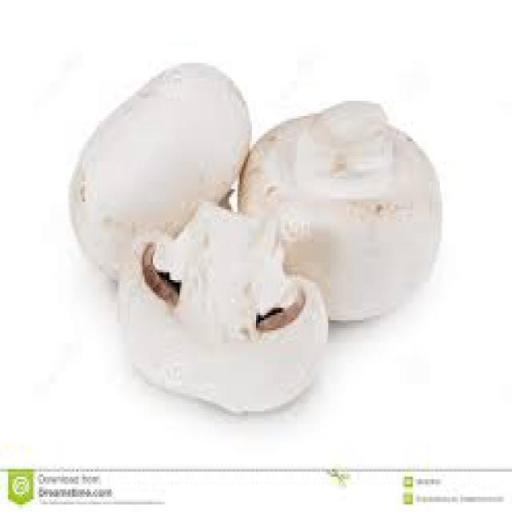Button Mushroom: (115, 201, 327, 423), (240, 102, 445, 320), (71, 66, 254, 275)
